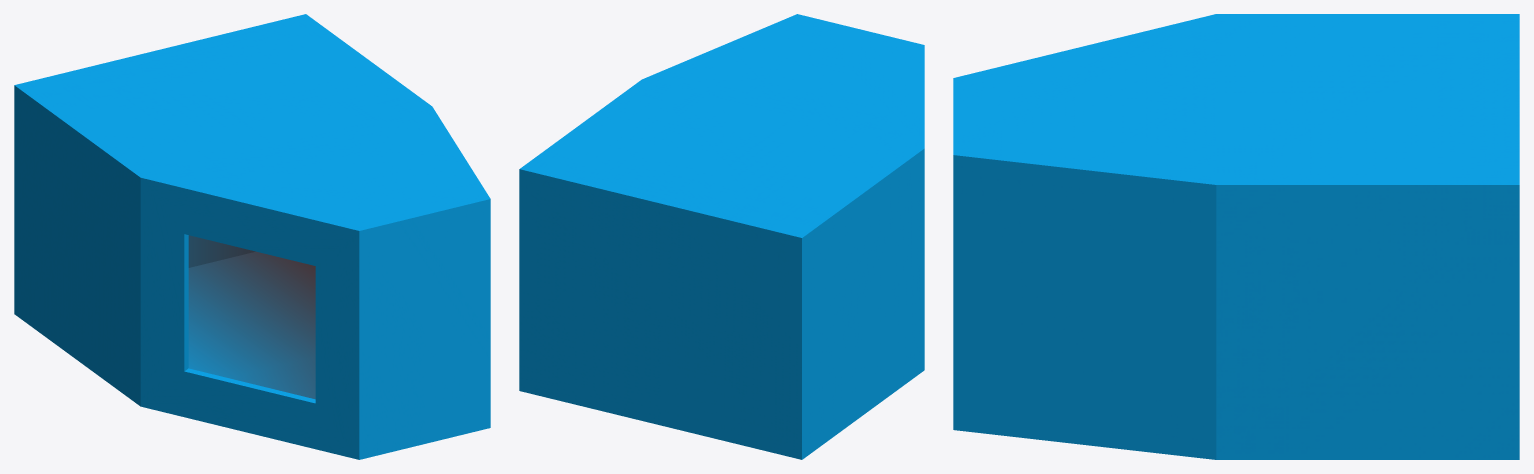
The model's file is bin_blue.dae.
The picture shows the model from 3 angles, left to right: view 1: azimuth 30°, elevation 25°; view 2: azimuth 150°, elevation 25°; view 3: azimuth 270°, elevation 25°; orthographic projection. The views are drawn at different scales.
Visible parts, largest first — view 1: node; view 2: node; view 3: node.
Part boxes in pixels (<box>): node: <box>14,14,490,459</box>; node: <box>519,14,924,459</box>; node: <box>953,14,1519,459</box>.
Bounding box in the file's own units: 0.4 × 0.3 × 0.5598.
1 material, 1 textured.
